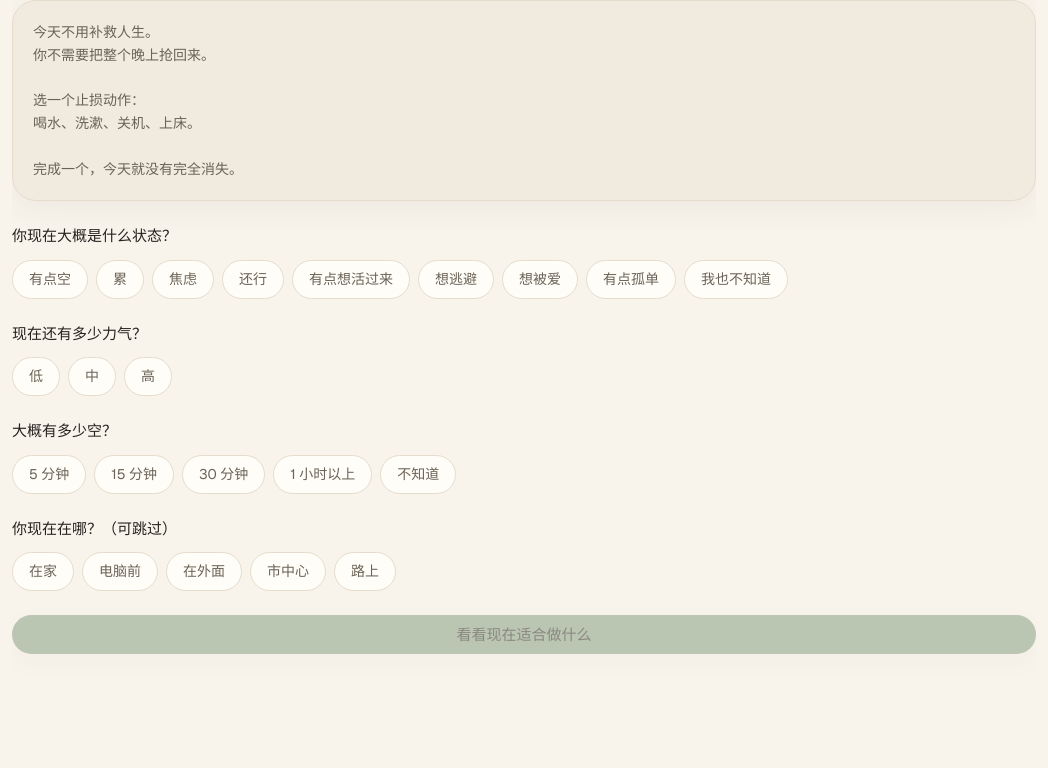
Scenario: Now flow (integration) — the core loop end to end › shows alternative opportunities as peeks and switching makes one active
Click the button "还行".
click(253, 279)  # box [222,260,284,299]
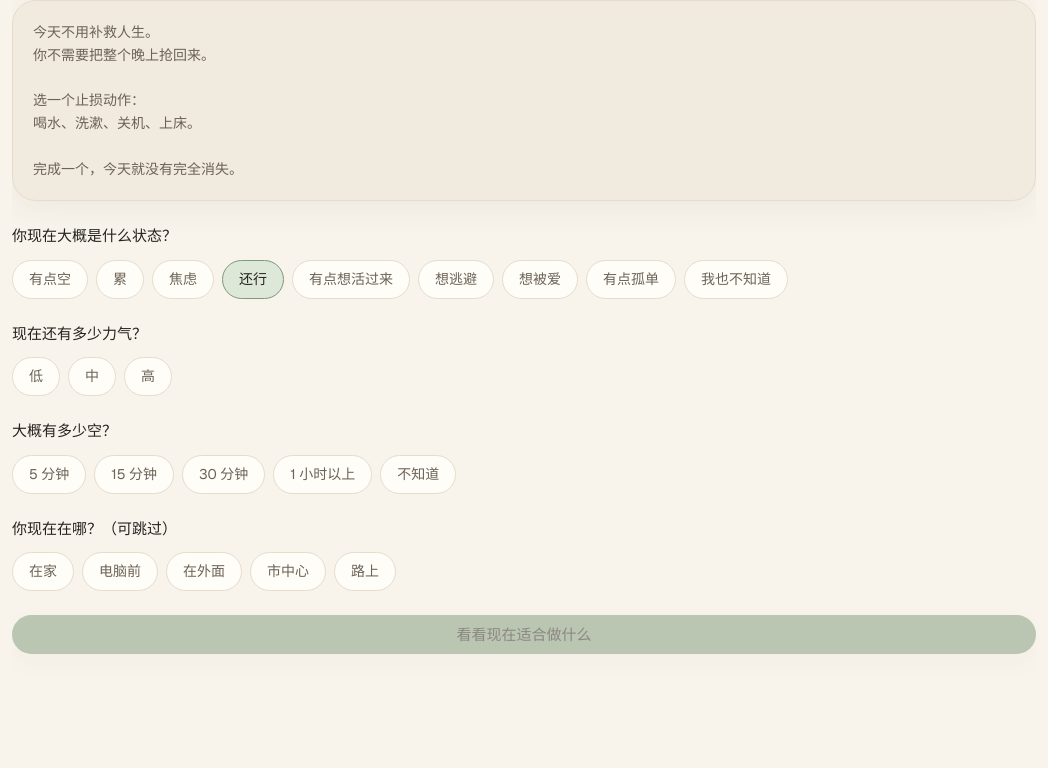
Click the button "中".
click(92, 377)  # box [68,357,116,396]
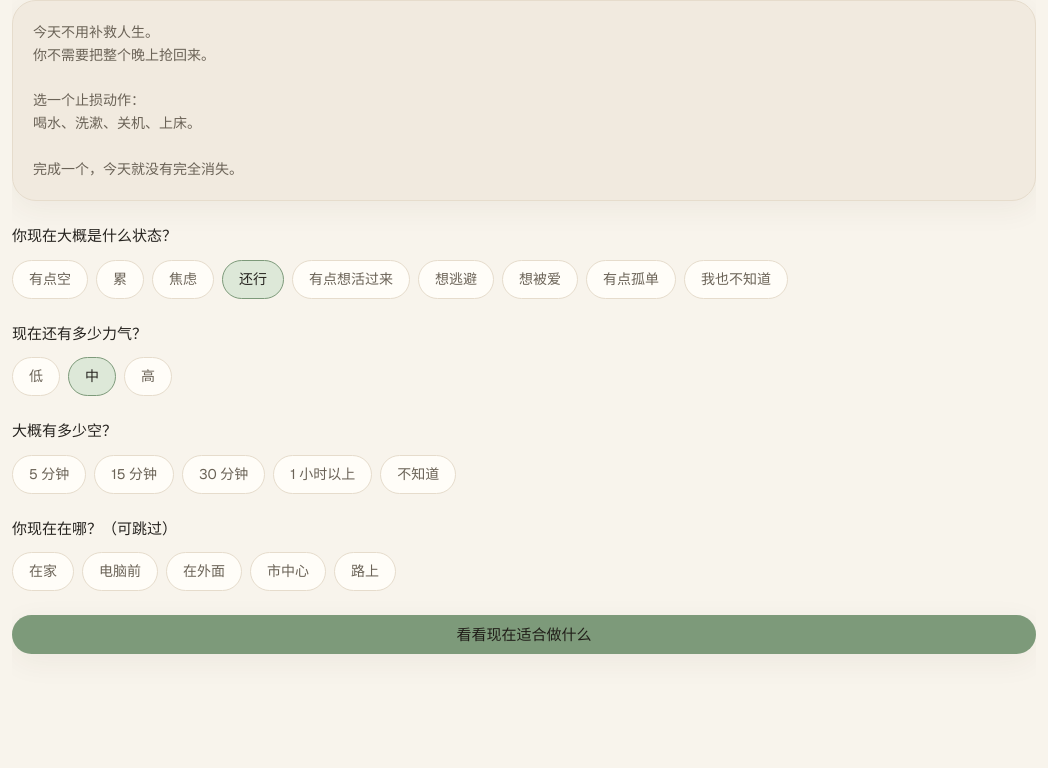
Click the button "看看现在适合做什么".
click(524, 635)  # box [12,615,1036,654]
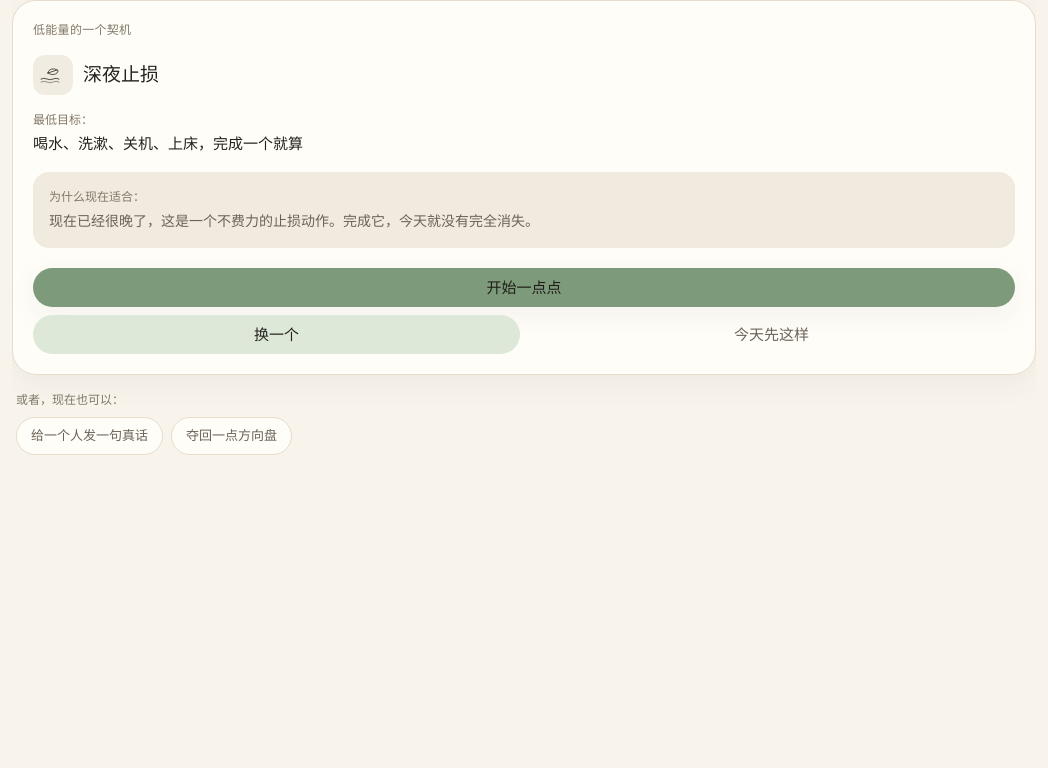
Result: the text "或者，现在也可以：" is shown at [16,392,124,408]
Result: the button "开始一点点" is shown at [33,268,1015,307]
